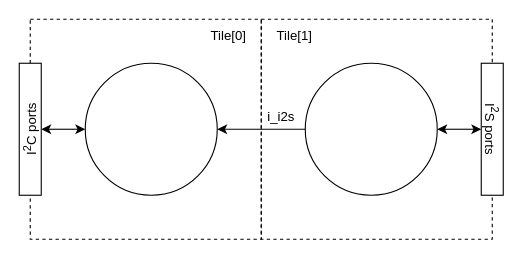
Some shapes in this 523 by 259 pixel diagram are drawn without their labels. The shapes that lost their labels are listed below. From the top down, each one's centre as x and y in pixels, then its label:
pixel 150 128: I 2 C master server task
pixel 370 128: I 2 S task and i2s_loopback
